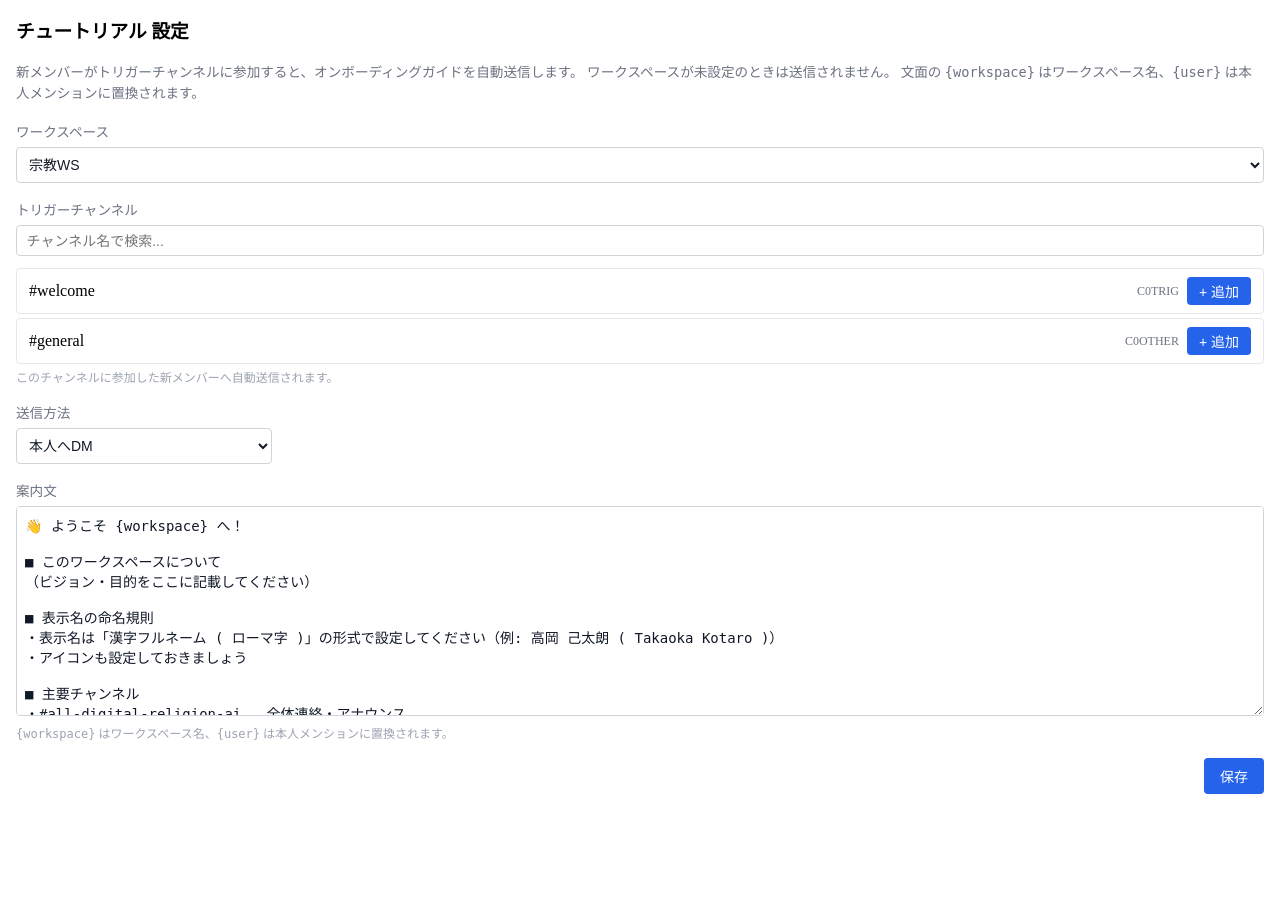
it: TutorialConfigForm smoke (宗教 PR2) › deliveryMode=channel のとき投稿先チャンネルが表示される
The image size is (1280, 900).
Select "チャンネルへ投稿" in the dropdown named "送信方法": [144, 446] box x1=16 y1=428 x2=272 y2=464
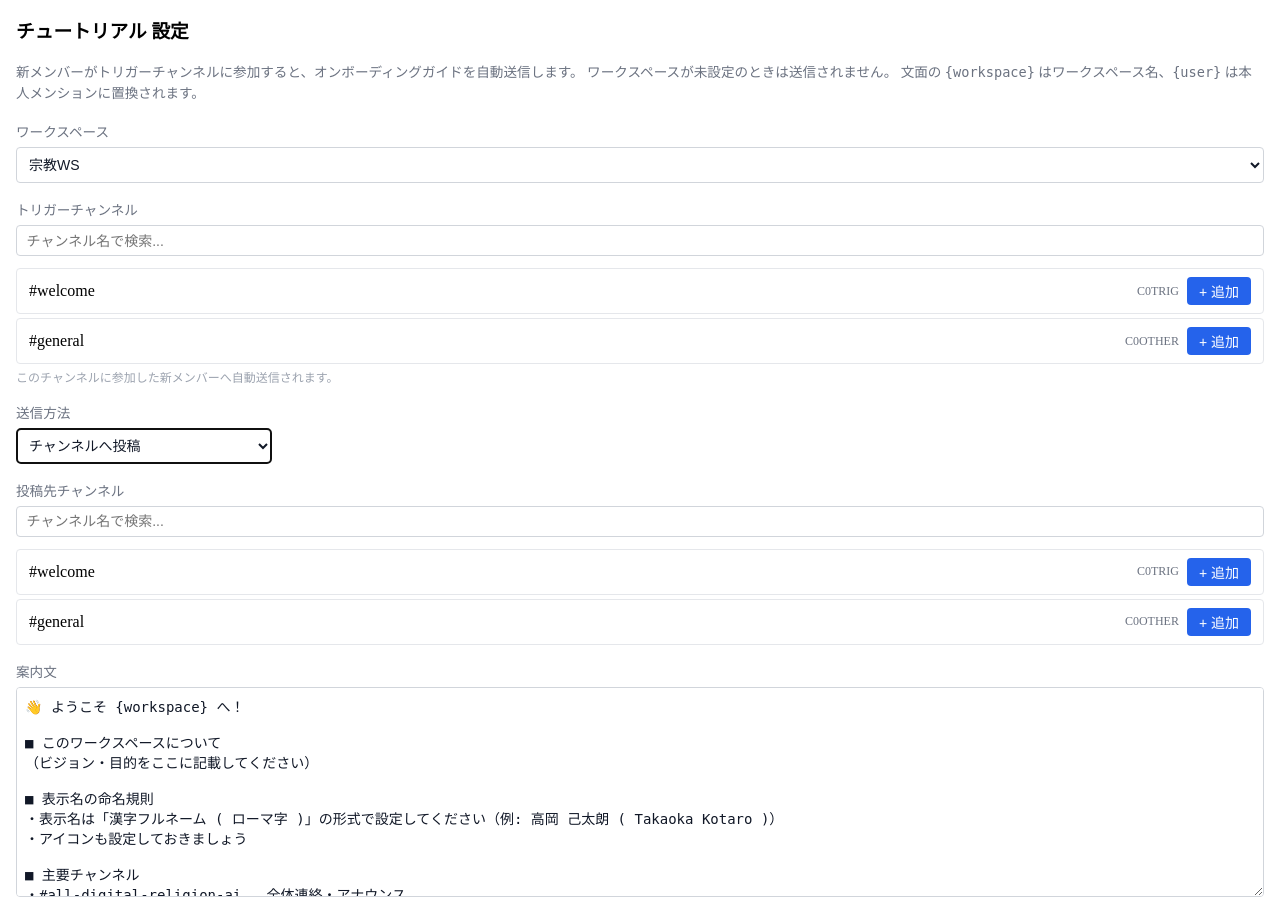
Expected: the text "投稿先チャンネル" is shown, x1=16 y1=484 x2=124 y2=499
